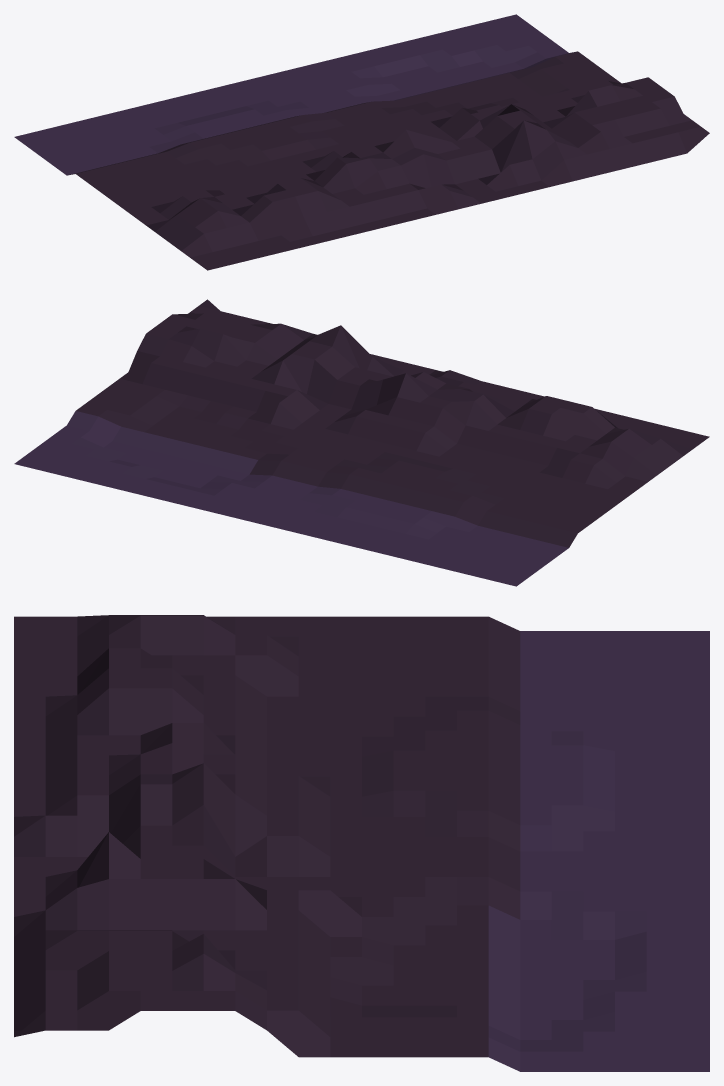
3 renders of one model, top to bottom at view 1: azimuth 30°, elevation 25°; view 2: azimuth 150°, elevation 25°; view 3: azimuth 270°, elevation 25°, orthographic. The views are drawn at different scales.
Visible parts, largest first — view 1: Plane; view 2: Plane; view 3: Plane.
Part boxes in pixels (box(x1,y1,x2,y2)): Plane: box(14, 14, 709, 270); Plane: box(14, 299, 709, 586); Plane: box(14, 615, 709, 1071).
Bounding box in the file's own units: 517 × 59.09 × 345.
Materials: 1 (1 with a texture image).
